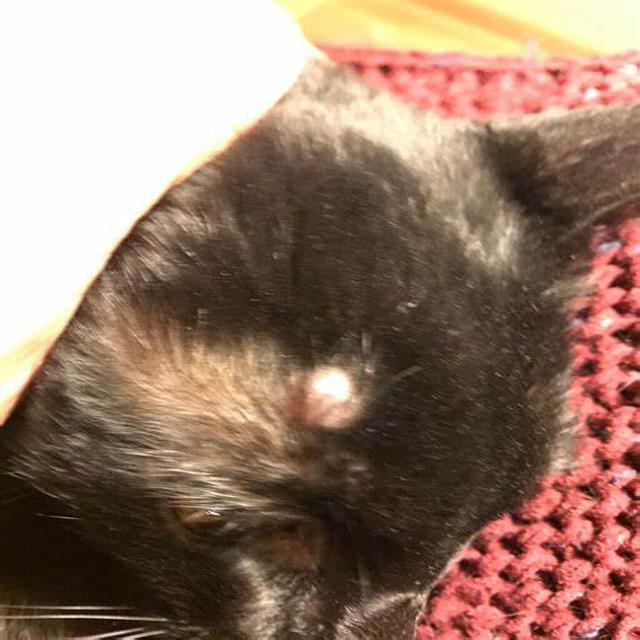lump_and_bump: (303, 353, 365, 435)
